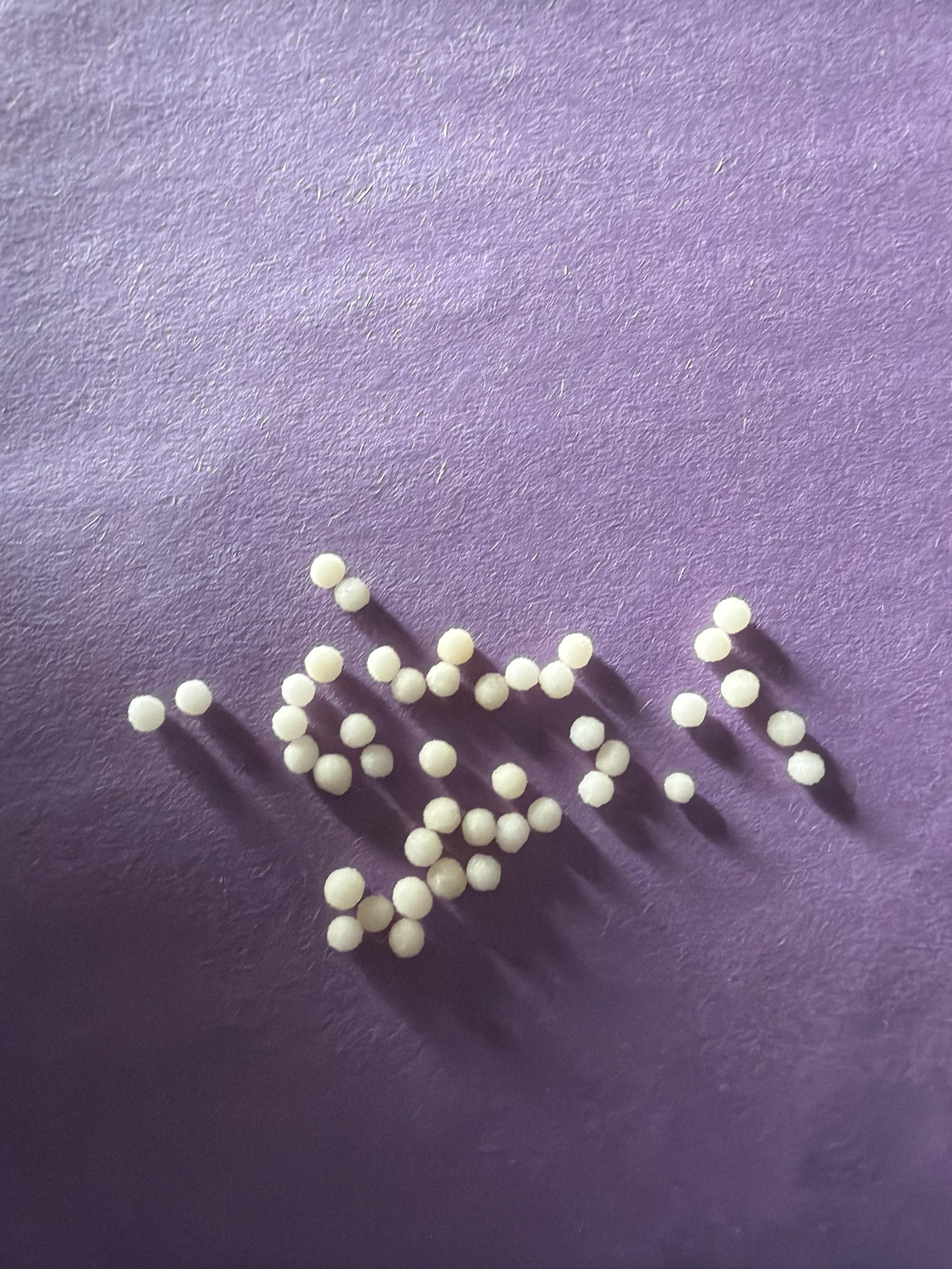pill: (392, 876, 433, 921), (324, 867, 365, 911), (426, 857, 467, 900), (313, 753, 352, 795), (720, 669, 760, 708), (404, 828, 442, 867), (419, 739, 457, 778), (304, 645, 343, 683), (767, 710, 806, 747), (423, 797, 462, 834), (388, 918, 424, 958), (713, 597, 751, 634), (127, 695, 165, 732), (356, 895, 393, 933), (283, 735, 319, 774), (496, 812, 530, 853), (327, 915, 364, 952), (437, 628, 474, 665), (175, 679, 212, 716), (539, 660, 574, 699), (578, 770, 614, 807), (491, 763, 527, 800), (466, 853, 501, 891), (787, 751, 825, 786), (366, 645, 401, 683), (474, 672, 509, 710), (671, 692, 707, 728), (310, 553, 346, 589), (595, 740, 630, 777), (272, 705, 307, 742), (391, 667, 426, 704), (339, 713, 376, 748), (694, 628, 731, 663), (462, 808, 496, 846), (570, 716, 605, 752), (334, 577, 370, 612), (526, 797, 562, 832), (558, 633, 593, 669), (426, 662, 460, 697), (504, 657, 539, 691), (281, 673, 315, 707), (360, 744, 394, 778), (663, 772, 695, 804)
